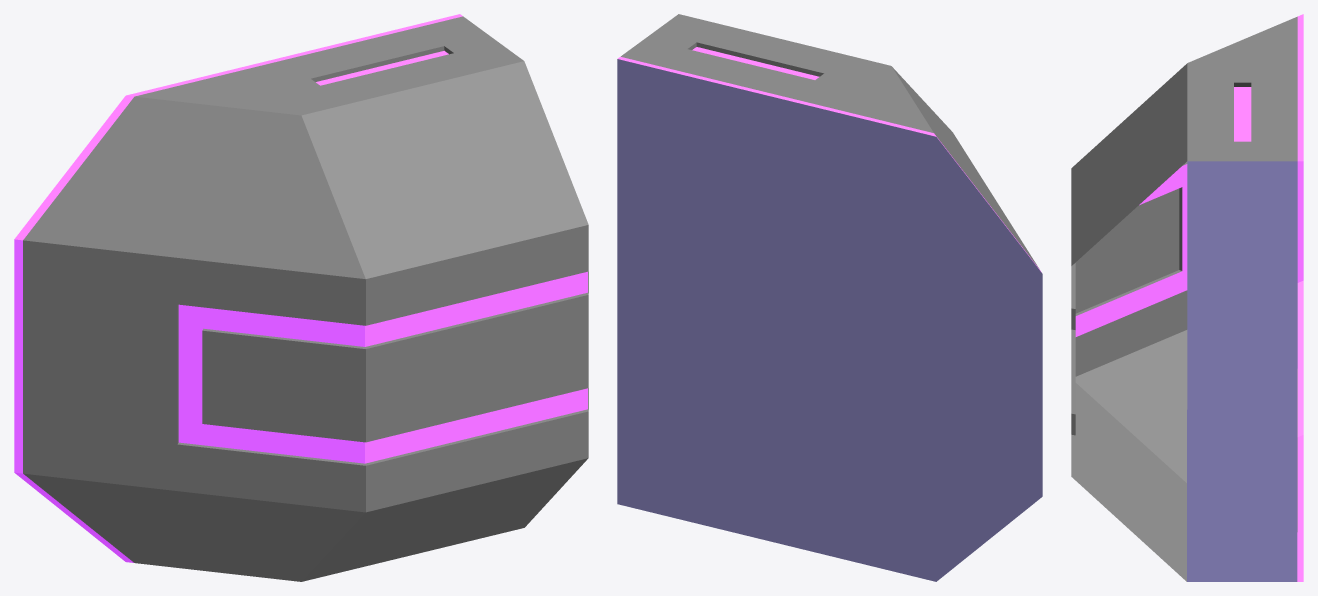
The model's file is PlatformEnd.FBX.
3 renders of one model, left to right at view 1: azimuth 30°, elevation 25°; view 2: azimuth 150°, elevation 25°; view 3: azimuth 270°, elevation 25°, orthographic. The views are drawn at different scales.
Visible parts, largest first — view 1: PlatformEnd; view 2: PlatformEnd; view 3: PlatformEnd.
Boxes of the visible parts, box(x1,y1,x2,y2) form: PlatformEnd: box(14, 14, 588, 581); PlatformEnd: box(617, 14, 1042, 581); PlatformEnd: box(1071, 14, 1303, 581).
Size of the model in its own units: 100 by 50 by 100.
